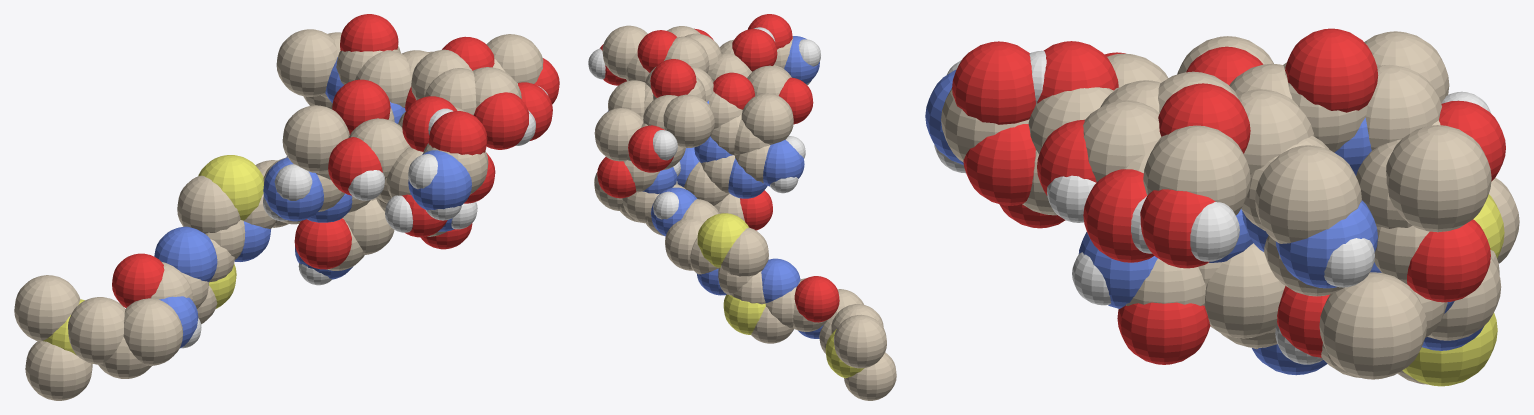
The model's file is BLM.fbx.
The picture shows the model from 3 angles, left to right: view 1: azimuth 30°, elevation 25°; view 2: azimuth 150°, elevation 25°; view 3: azimuth 270°, elevation 25°; orthographic projection. The views are drawn at different scales.
Parts seen in each view (by area): view 1: ShapeSphere.047; view 2: ShapeSphere.047; view 3: ShapeSphere.047.
Part boxes in pixels (x1=…): ShapeSphere.047: x1=14, y1=14, x2=559, y2=400; ShapeSphere.047: x1=588, y1=14, x2=896, y2=400; ShapeSphere.047: x1=925, y1=28, x2=1519, y2=386.
Bounding box in the file's own units: 2616 × 1853 × 1879.
